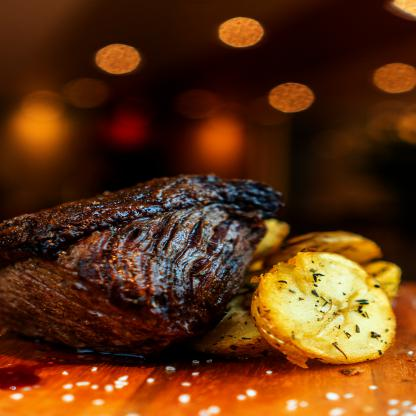Carne: (1, 172, 273, 349)
